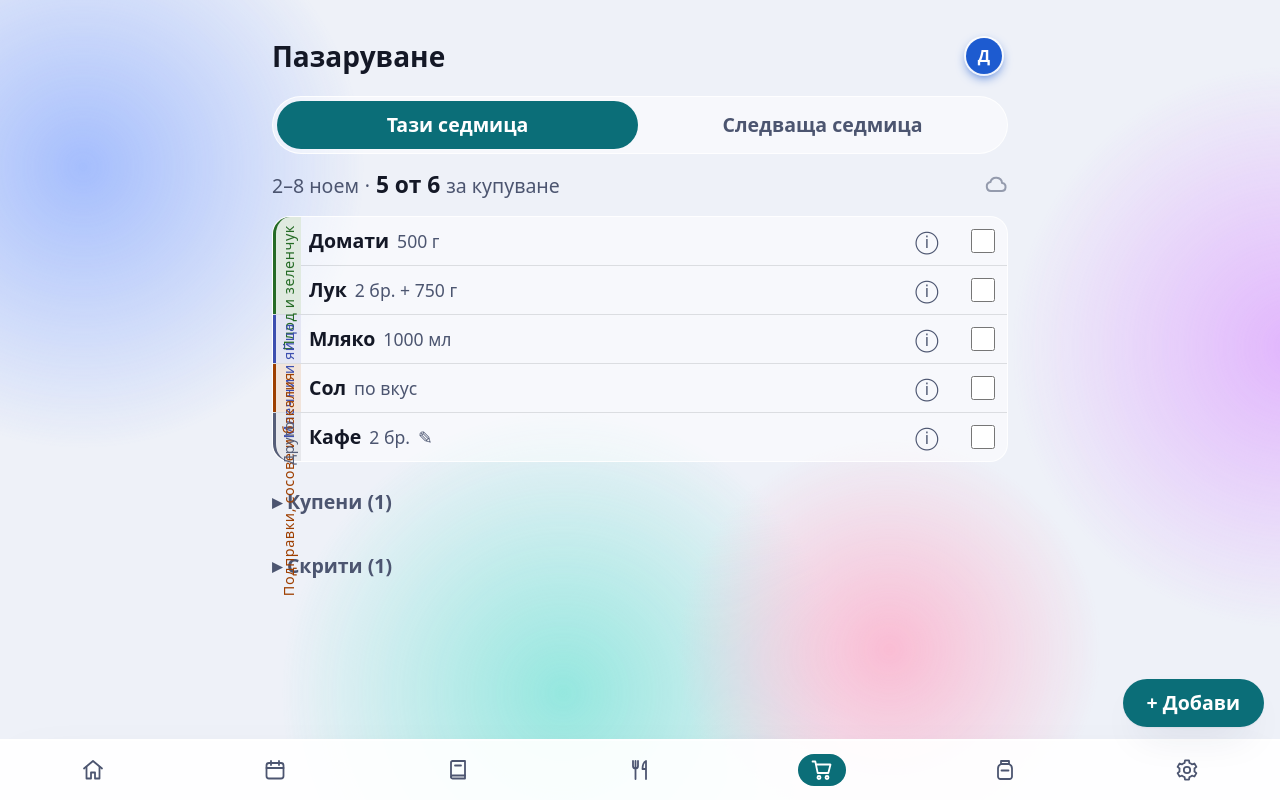
Scenario: ShoppingWeek › отметка праща PUT …/checked с действащия потребител
Click the checkbox labelled "Домати". click: (983, 241)
box: [971, 229, 995, 253]
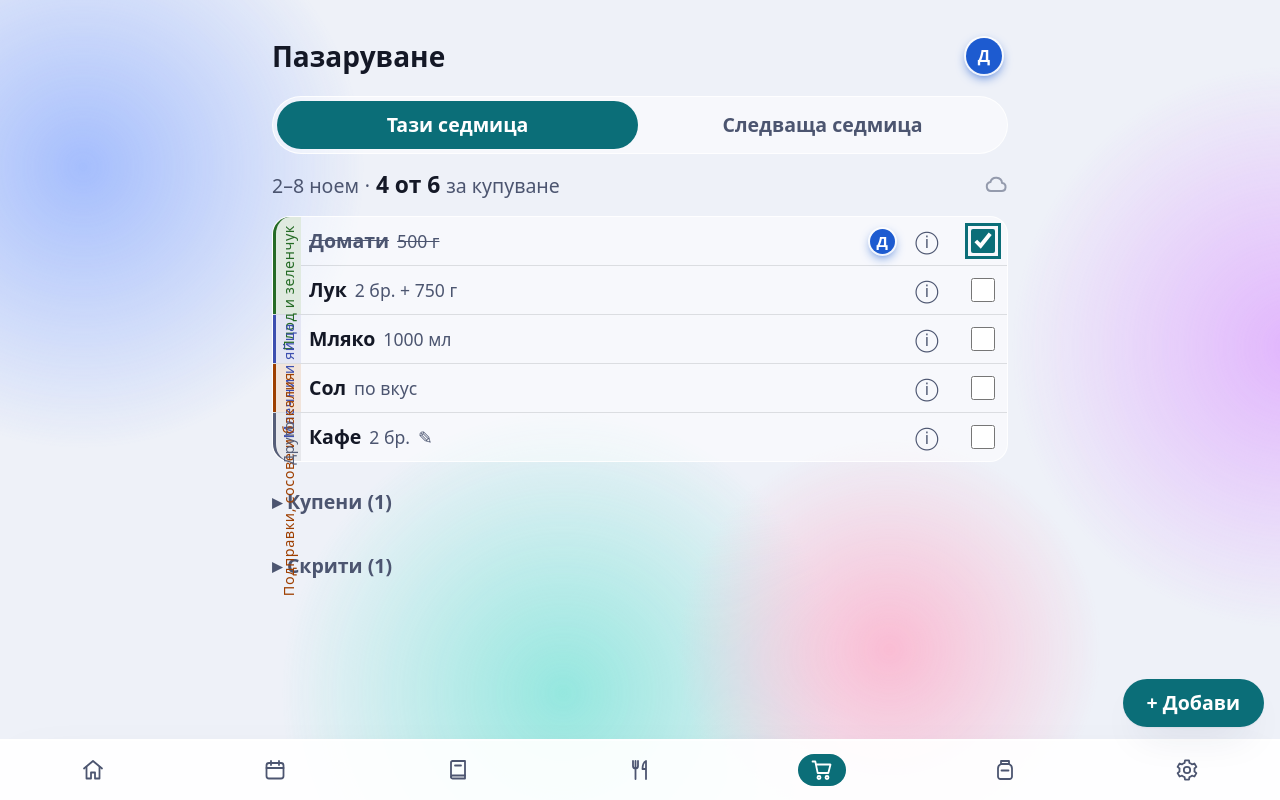
Expected: the checkbox labelled "Домати" is checked, [971, 229, 995, 253]
Expected: the text "4 от 6" is shown, [376, 170, 440, 200]
